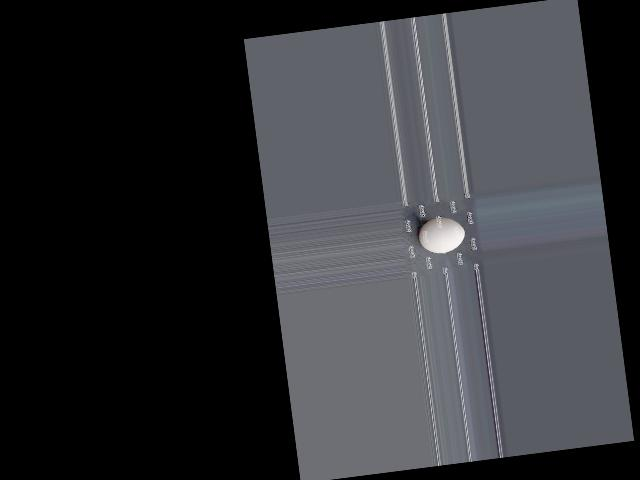egg: (416, 214, 466, 255)
